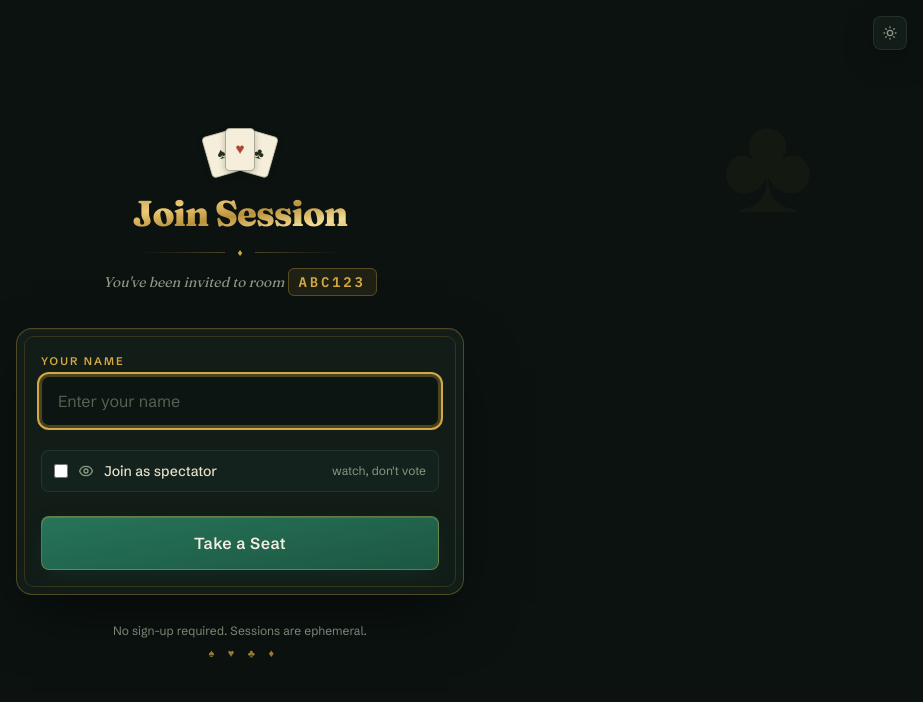
it: Join page › shows error when submitting without a name
This screenshot has width=923, height=702.
Click the button "Take a Seat": (240, 542) 41,516 -> 439,570
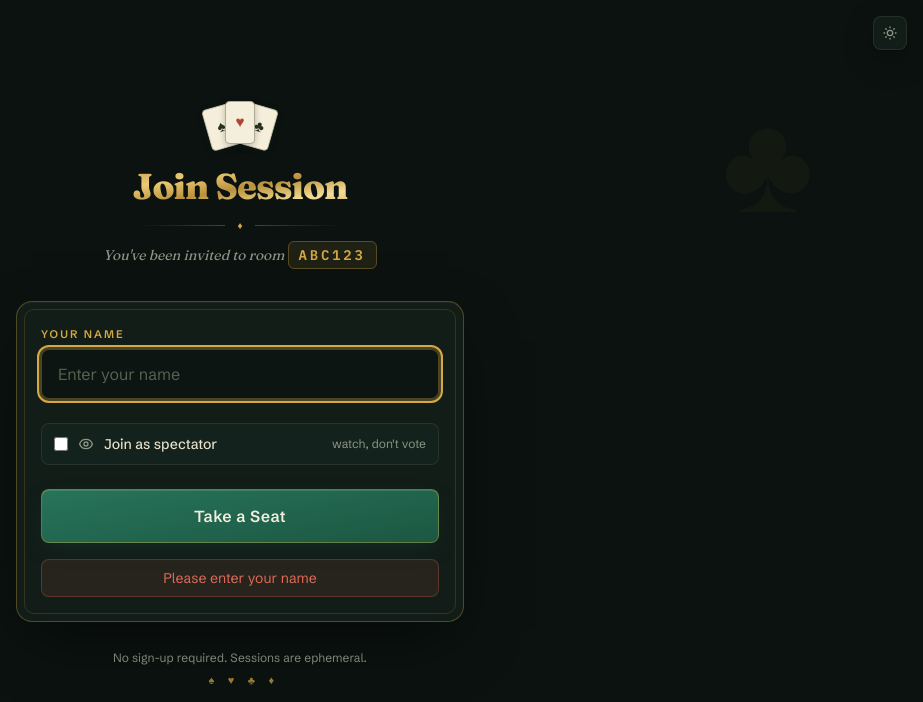
Expected: the text "Please enter your name" is shown, 163,568 -> 317,586
